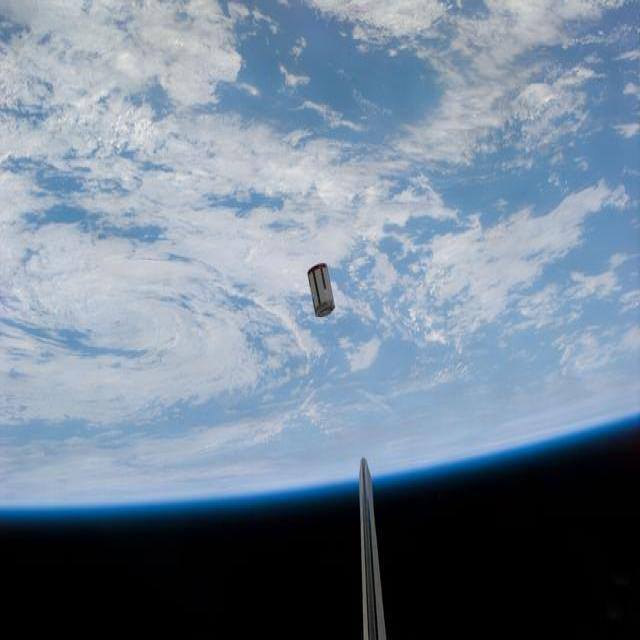satellite: (300, 258, 339, 318)
